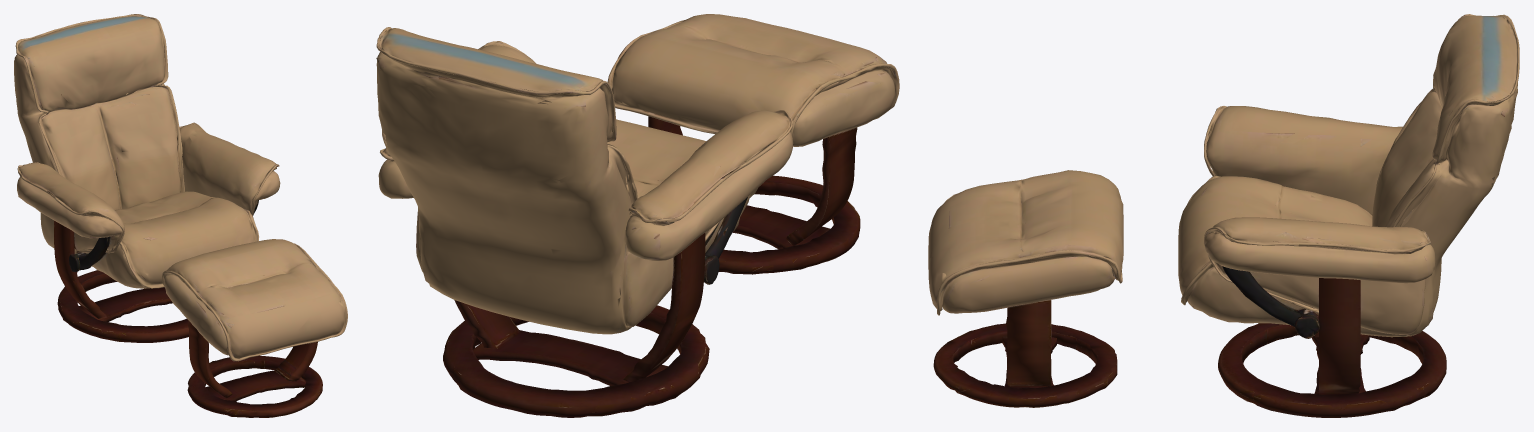
The model's file is recliner-thomasville.min.glb.
3 renders of one model, left to right at view 1: azimuth 30°, elevation 25°; view 2: azimuth 150°, elevation 25°; view 3: azimuth 270°, elevation 25°, orthographic. The views are drawn at different scales.
Size of the model in its own units: 0.5044 by 0.5693 by 0.9512.
Materials: 1 (1 with a texture image).
